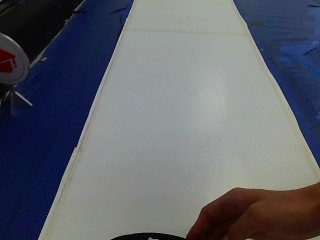school: (0, 31, 27, 88)
